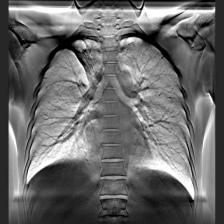tuberculosis: (18, 25, 204, 222)
